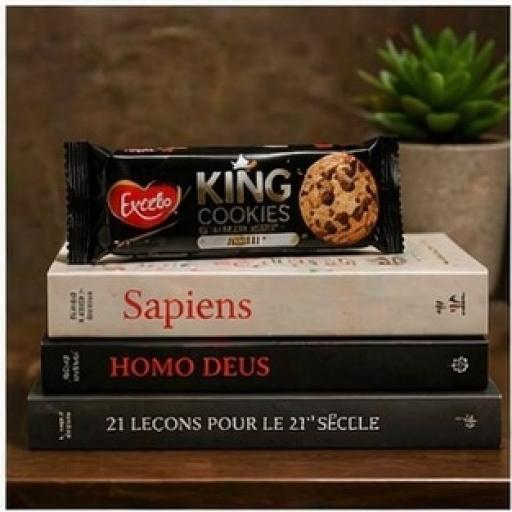king-cooking: (44, 77, 468, 339)
